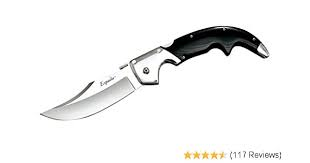knife: (35, 19, 275, 125)
